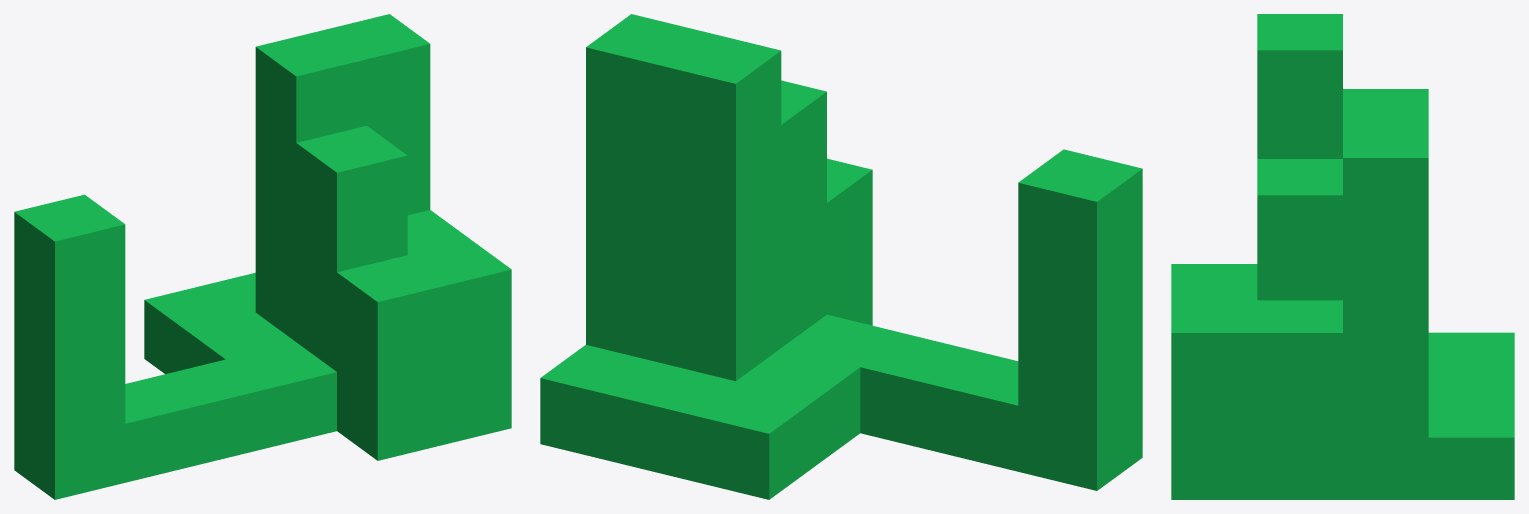
File: TestTerrian.glb
The picture shows the model from 3 angles, left to right: view 1: azimuth 30°, elevation 25°; view 2: azimuth 150°, elevation 25°; view 3: azimuth 270°, elevation 25°; orthographic projection. The views are drawn at different scales.
Visible parts, largest first — view 1: TestTerrian_1; view 2: TestTerrian_1; view 3: TestTerrian_1.
Part boxes in pixels (left/top/right/bottom): TestTerrian_1: left=14, top=14, right=511, bottom=499; TestTerrian_1: left=540, top=14, right=1142, bottom=499; TestTerrian_1: left=1171, top=14, right=1514, bottom=499.
Bounding box in the file's own units: 59 × 44 × 40.
